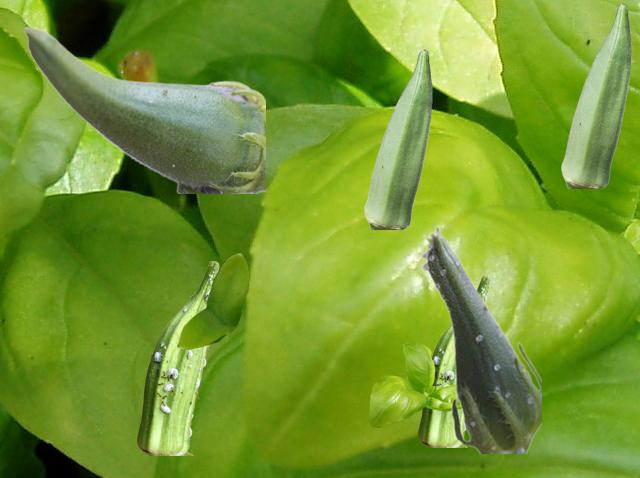okra: (23, 26, 264, 192), (420, 225, 540, 452), (137, 261, 218, 454), (561, 3, 630, 187), (418, 276, 489, 446), (364, 49, 431, 228)
